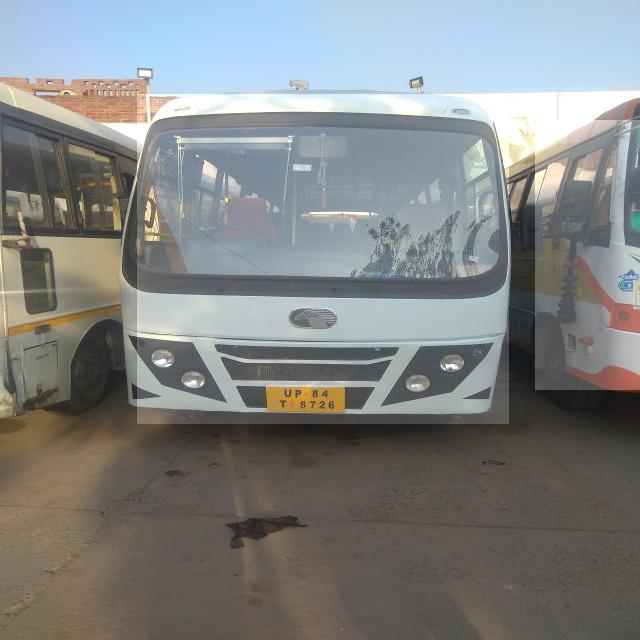Bus: (138, 94, 510, 424), (535, 120, 640, 390)
